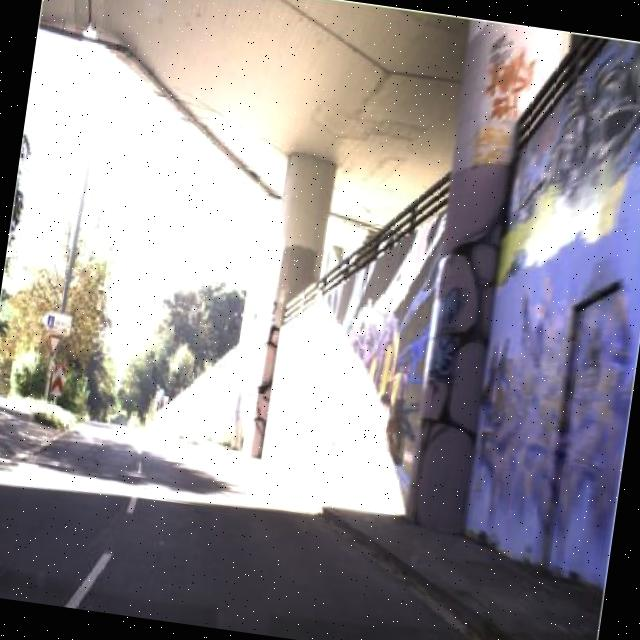Ustap pierwszenstwa: (44, 332, 64, 360)
